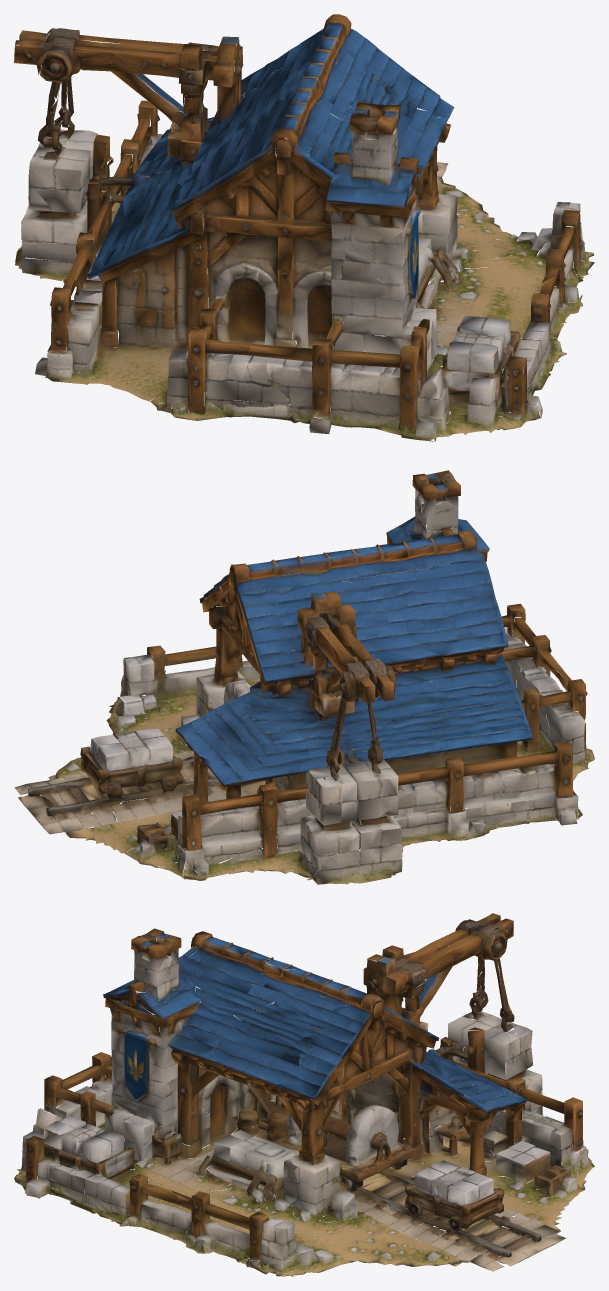
The model's file is cantera-v.glb.
3 views of the same model, one above another, from view 1: azimuth 30°, elevation 25°; view 2: azimuth 150°, elevation 25°; view 3: azimuth 270°, elevation 25° (orthographic). The views are drawn at different scales.
Visible parts, largest first — view 1: tripo_node_c3a2423e-678d-4570-b82d-9f38dfe36caf; view 2: tripo_node_c3a2423e-678d-4570-b82d-9f38dfe36caf; view 3: tripo_node_c3a2423e-678d-4570-b82d-9f38dfe36caf.
Part boxes in pixels (box(x1,y1,x2,y2)): tripo_node_c3a2423e-678d-4570-b82d-9f38dfe36caf: box(14, 14, 594, 441); tripo_node_c3a2423e-678d-4570-b82d-9f38dfe36caf: box(14, 470, 594, 884); tripo_node_c3a2423e-678d-4570-b82d-9f38dfe36caf: box(14, 913, 594, 1276).
Size of the model in its own units: 0.9453 by 0.4526 by 1.07.
Materials: 1 (1 with a texture image).
